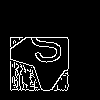S: (27, 22, 68, 74)
